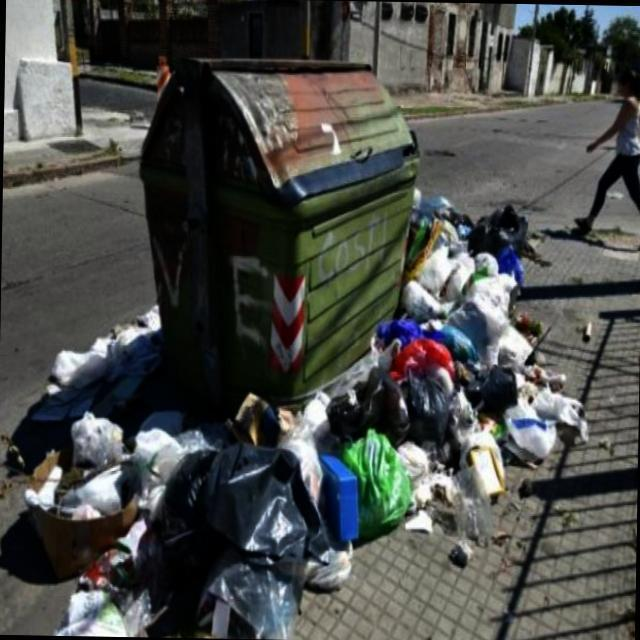garbage: (8, 301, 327, 640), (409, 192, 600, 534), (319, 312, 446, 588)
